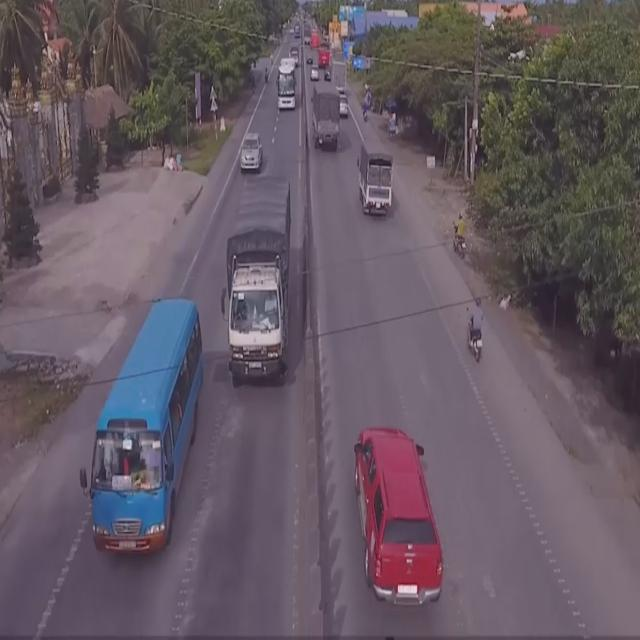bus: (86, 288, 203, 561), (276, 58, 298, 110)
car: (350, 412, 443, 613), (238, 132, 262, 174)
motorbike: (464, 298, 486, 364), (452, 213, 468, 261)
truck: (220, 170, 292, 387), (356, 140, 393, 217), (310, 85, 343, 152)
